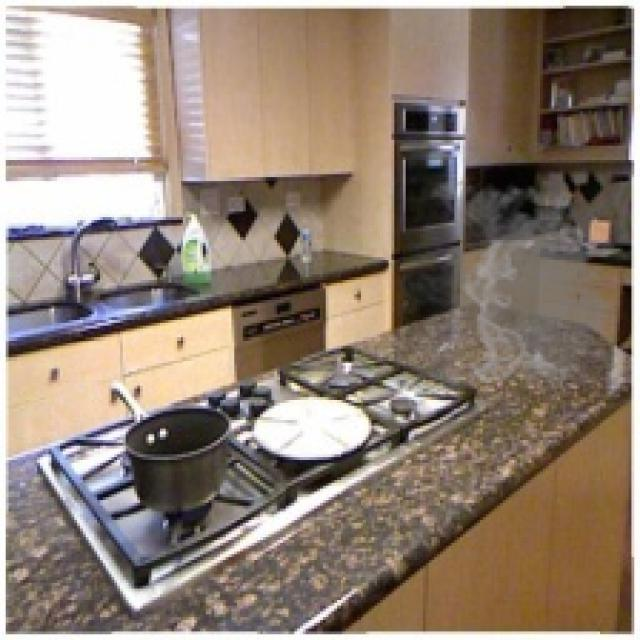Smoke: (403, 172, 626, 392)
